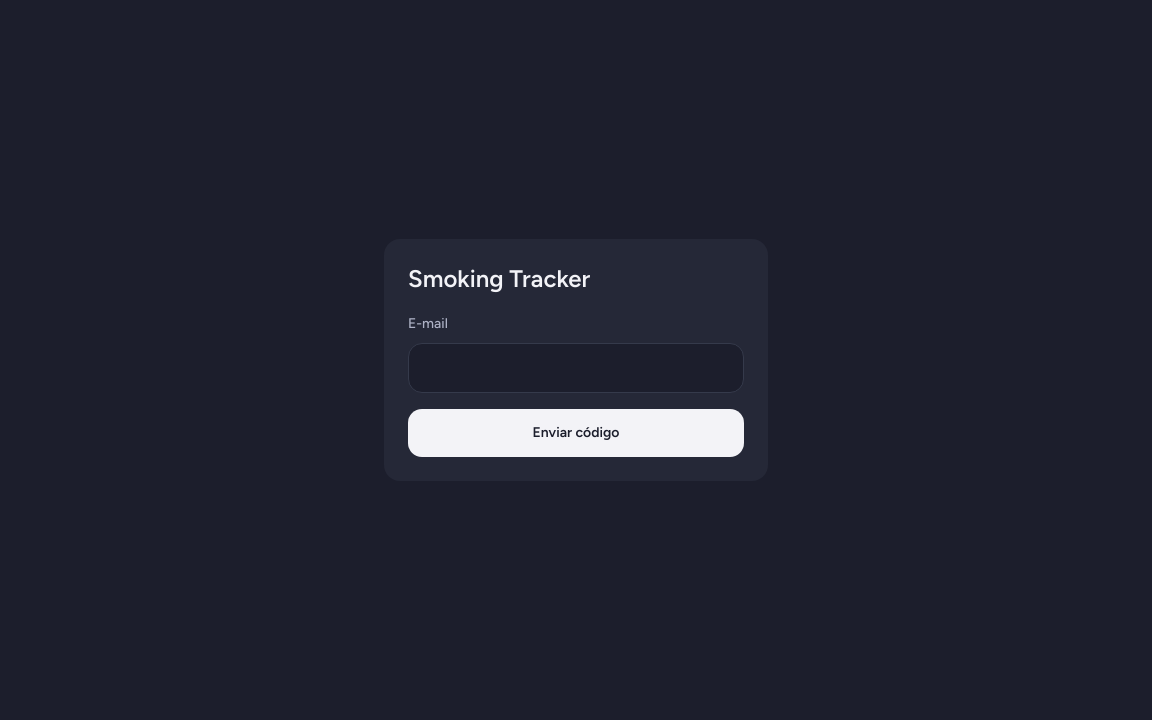
Test: login › shows an error and stays on the code step when the code is wrong
The width and height of the screenshot is (1152, 720).
Type "eu@gmail.com" into the field labelled "E-mail".
click(576, 368); type("eu@gmail.com")  # box x1=408 y1=343 x2=744 y2=393
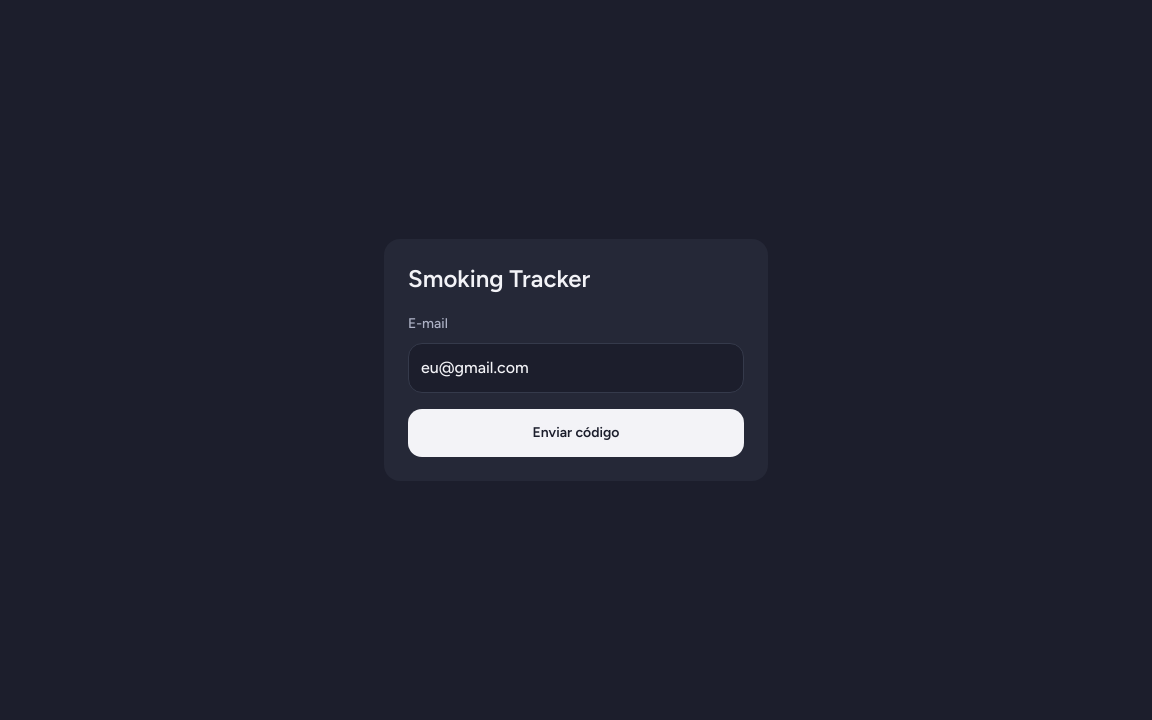
Click the button "Enviar código".
click(576, 433)  # box x1=408 y1=409 x2=744 y2=457
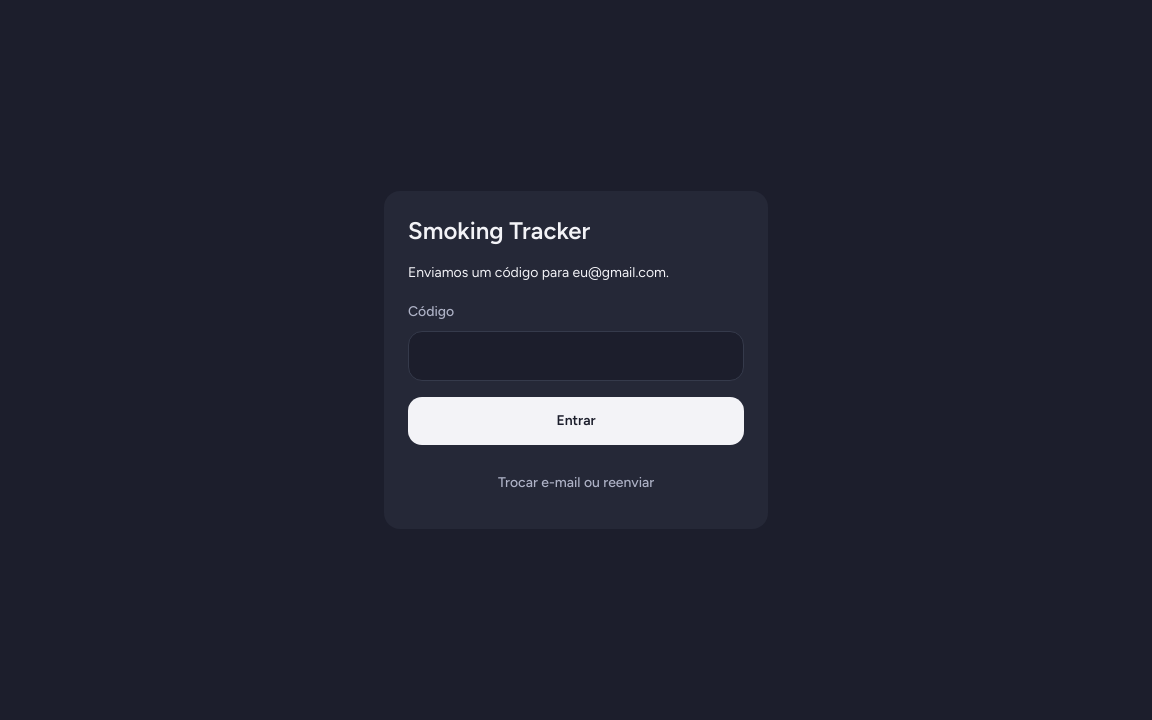
Type "000000" into the field labelled "Código".
click(576, 356); type("000000")  # box x1=408 y1=331 x2=744 y2=381
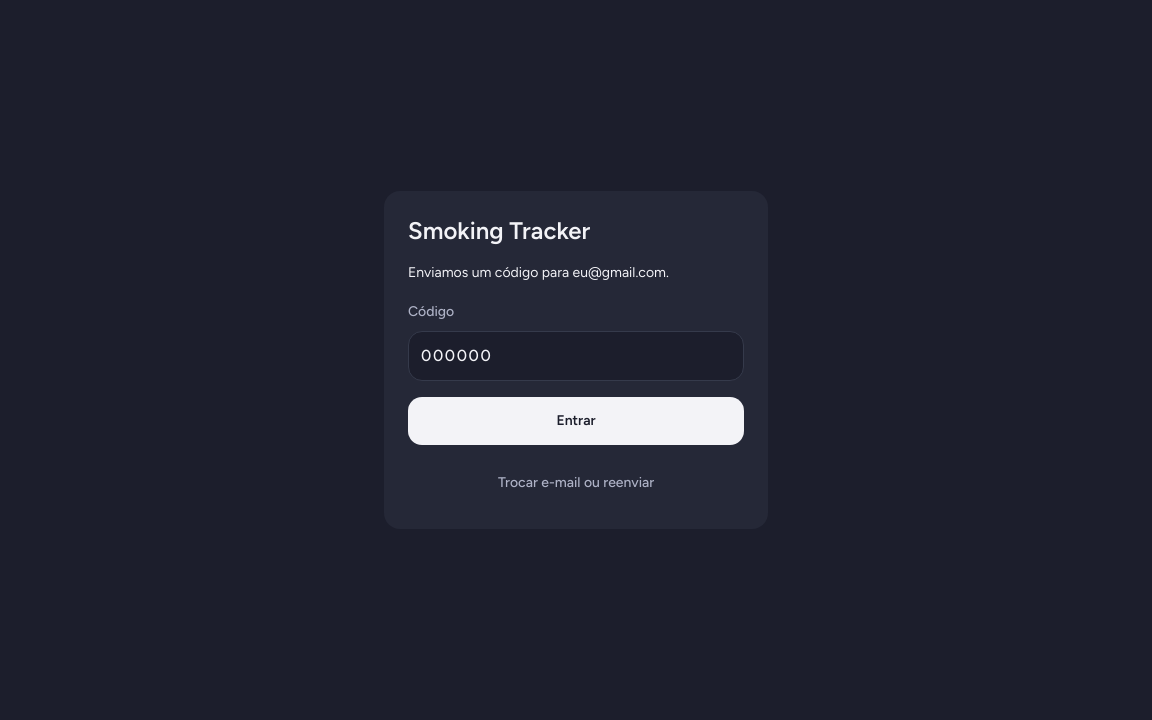
Click the button "Entrar".
click(576, 421)  # box x1=408 y1=397 x2=744 y2=445
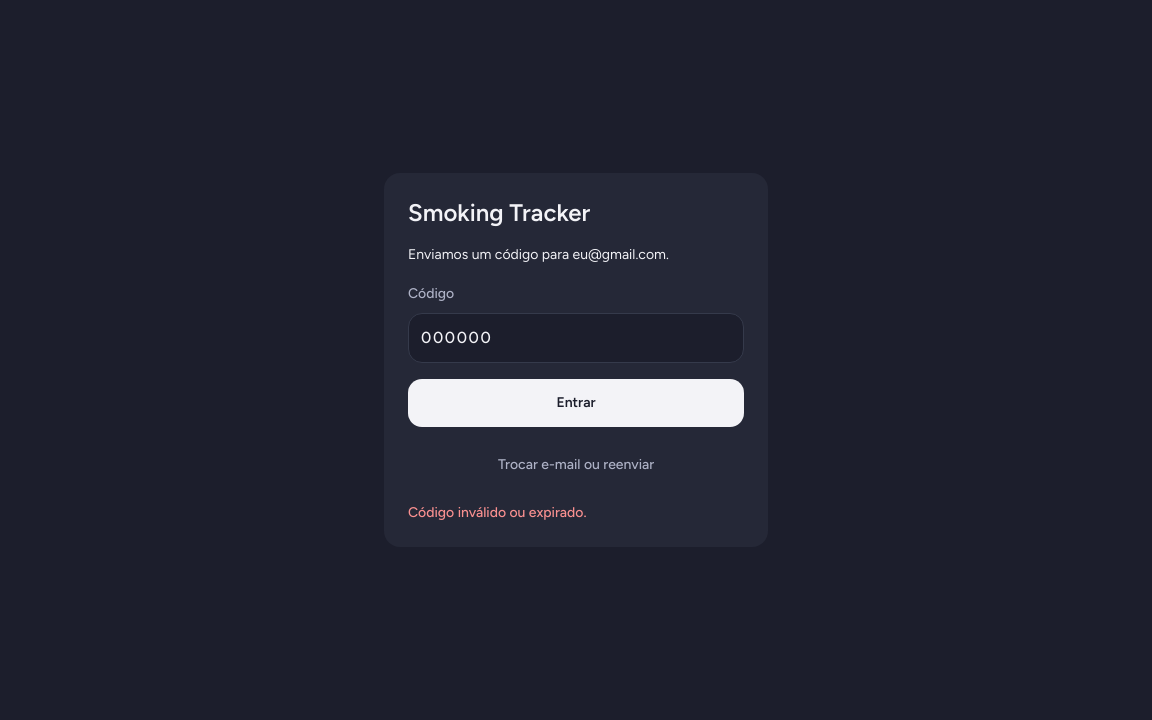
Result: the message shows "Código inválido" at x1=408 y1=504 x2=586 y2=521
